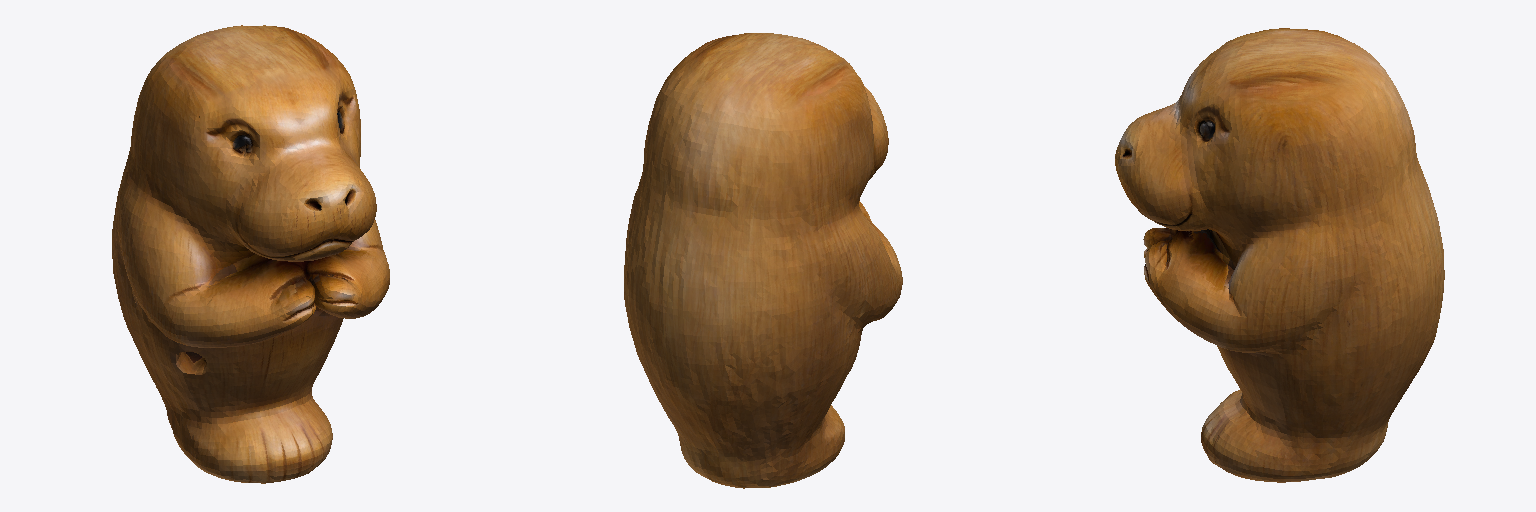
The picture shows the model from 3 angles: view 1: azimuth 30°, elevation 25°; view 2: azimuth 150°, elevation 25°; view 3: azimuth 270°, elevation 25°; orthographic projection.
Visible parts, largest first — view 1: Wooden_Contemplation_[number redacted]_texture; view 2: Wooden_Contemplation_[number redacted]_texture; view 3: Wooden_Contemplation_[number redacted]_texture.
Part boxes in pixels (bbox=[...]): Wooden_Contemplation_[number redacted]_texture: bbox=[112, 25, 389, 483]; Wooden_Contemplation_[number redacted]_texture: bbox=[624, 33, 902, 488]; Wooden_Contemplation_[number redacted]_texture: bbox=[1115, 28, 1444, 482].
Bounding box in the file's own units: 1.17 × 2 × 1.45.
1 materials, 1 textured.